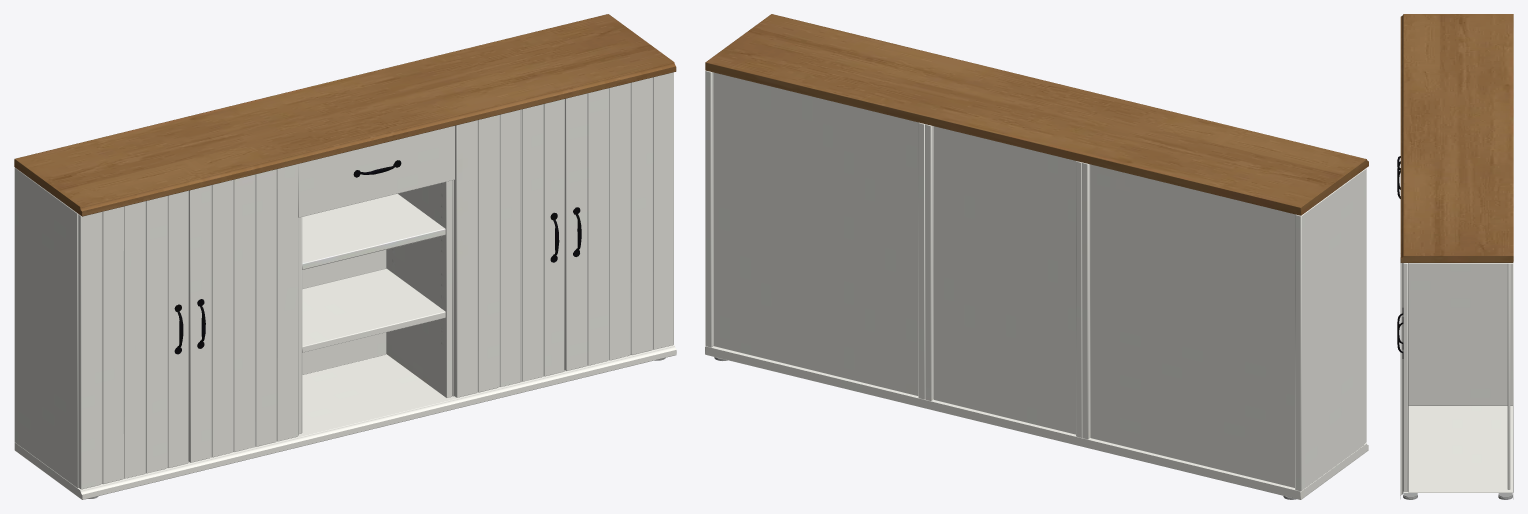
Rendered from 07 - SKRUVBY - 收納組合, 白色, 190x90 公分 IKEA 線上購物.glb.
The picture shows the model from 3 angles, left to right: view 1: azimuth 30°, elevation 25°; view 2: azimuth 150°, elevation 25°; view 3: azimuth 270°, elevation 25°; orthographic projection. The views are drawn at different scales.
Parts seen in each view (by area): view 1: 99525607_storage_combination; view 2: 99525607_storage_combination; view 3: 99525607_storage_combination.
Part boxes in pixels (x1,y1,x2,y2): 99525607_storage_combination: [14, 14, 676, 499]; 99525607_storage_combination: [705, 14, 1368, 499]; 99525607_storage_combination: [1397, 14, 1513, 499].
Bounding box in the file's own units: 1.9 × 0.9001 × 0.3855.
1 material, 1 textured.
